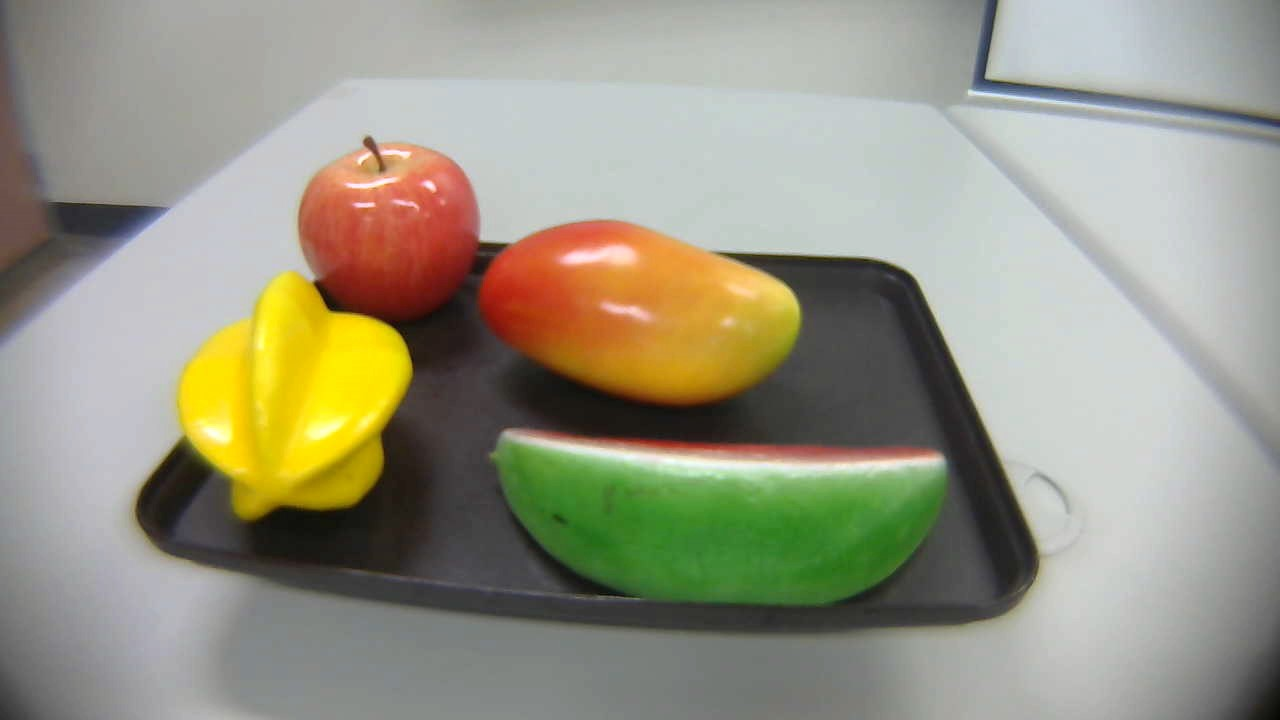red apple: (277, 134, 487, 338)
red mango: (482, 214, 808, 424)
star fruit: (180, 266, 413, 528)
water melon: (488, 416, 957, 616)
